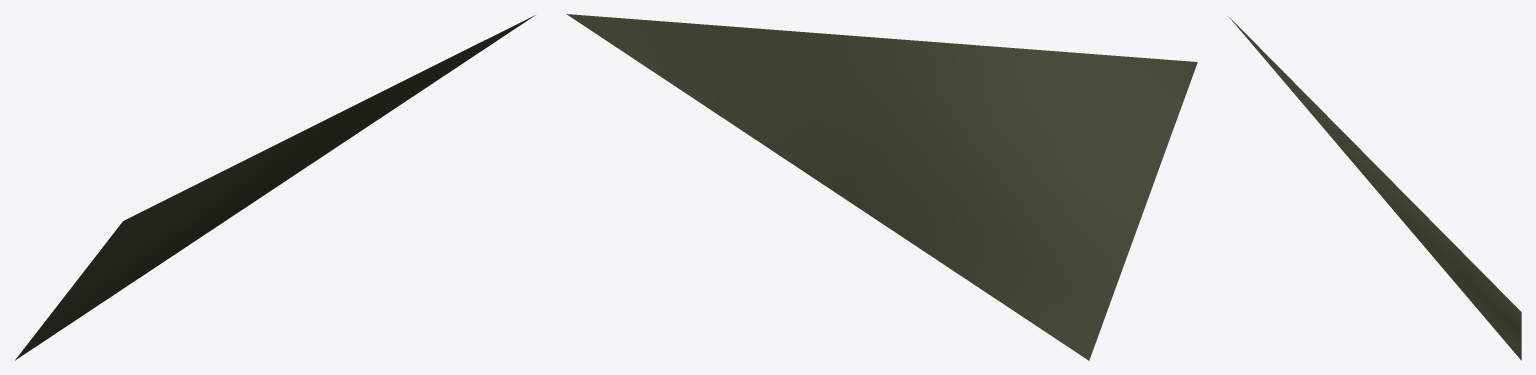
3 views of the same model, side by side, from view 1: azimuth 30°, elevation 25°; view 2: azimuth 150°, elevation 25°; view 3: azimuth 270°, elevation 25° (orthographic). The views are drawn at different scales.
Size of the model in its own units: 0.1407 by 0.0564 by 0.0506.
1 material, 1 textured.
